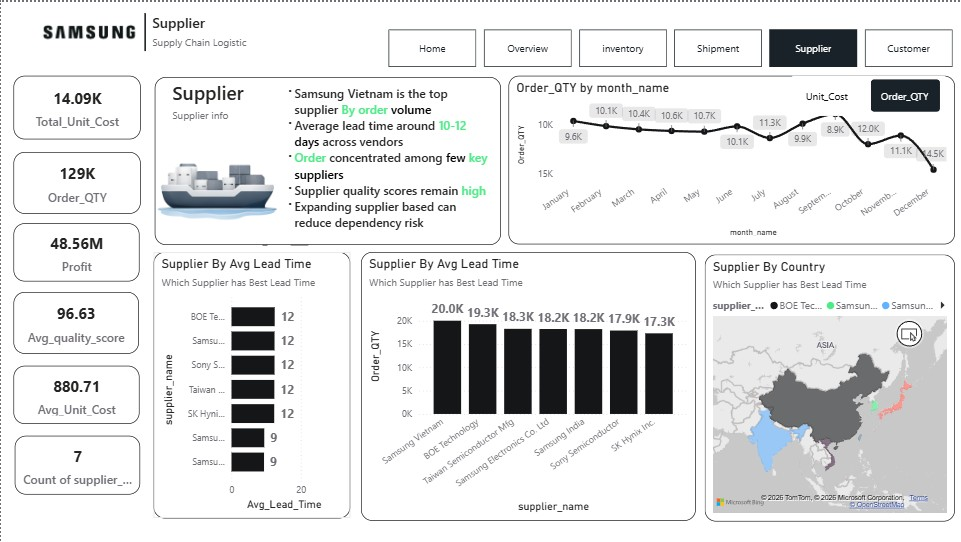

Layout of this report page (visuals, bound fields, positions):
{"tool":"powerbi","page":{"name":"Supplier","canvas":[1280,720],"ordinal":4},"visuals":[{"type":"shape","title":"Supplier","box":[201.7,15.1,152.3,71.4],"z":0},{"type":"shape","box":[16.9,15.7,351.1,50.7],"z":1000},{"type":"image","box":[0,15.7,235.3,50.7],"z":2000},{"type":"card","fields":{"Values":["MeasuresTable.Profit"]},"box":[16.7,295,168.3,77.9],"z":3000},{"type":"card","fields":{"Values":["MeasuresTable.Avg_quality_score"]},"box":[16.7,386.8,167,82.1],"z":4000},{"type":"card","fields":{"Values":["MeasuresTable.Avg_Unit_Cost"]},"box":[16.7,484.2,168.3,77.9],"z":5000},{"type":"card","fields":{"Values":["MeasuresTable.Order_QTY"]},"box":[16.7,200.3,169.7,82.1],"z":6000},{"type":"card","fields":{"Values":["MeasuresTable.Total_Unit_Cost"]},"box":[16.7,98.8,169.7,84.9],"z":7000},{"type":"card","fields":{"Values":["CountNonNull(dim_supplier.supplier_id)"]},"box":[18.3,578.4,167.5,78.3],"z":8000},{"type":"barChart","title":"Supplier By Avg Lead Time","fields":{"Y":["MeasuresTable.Avg_Lead_Time"],"Category":["dim_supplier.supplier_name"]},"box":[202.5,333.8,262.5,355],"z":9000},{"type":"columnChart","title":"Supplier By Avg Lead Time","fields":{"Category":["dim_supplier.supplier_name"],"Y":["MeasuresTable.Order_QTY"]},"box":[480,333.8,446.2,358.8],"z":10000},{"type":"filledMap","title":"Supplier By Country","fields":{"Series":["dim_supplier.supplier_name"],"Category":["dim_supplier.country"]},"box":[937.5,336.2,333.8,356.2],"z":11000},{"type":"lineChart","fields":{"Y":["MeasuresTable.Order_QTY"],"Category":["dim_date.month_name"]},"box":[676.2,98.8,595,225],"z":12000},{"type":"advancedSlicerVisual","fields":{"Values":["Cost_QTS_Suppliers.Cost_QTS_Suppliers"]},"box":[1055,98.8,203.8,53.8],"z":13000},{"type":"shape","box":[205,100,461.2,223.8],"z":14000},{"type":"image","box":[192.1,152.3,185.2,183.9],"z":15000},{"type":"shape","title":"Supplier","box":[227.5,103.8,181.2,75],"z":16000},{"type":"pageNavigator","box":[517.3,36.7,753.3,50.1],"z":17000},{"type":"textbox","box":[368.3,105,288.3,206.7],"z":18000}]}

Visuals, with their boxes in screenshot pixels (x1, y1, x2, y2), scaled from the page's 1280x720 canvas onto the 961x542 screenshot:
"Supplier" shape: <box>151,11,266,65</box>
shape: <box>13,12,276,50</box>
image: <box>0,12,177,50</box>
card - MeasuresTable.Profit: <box>13,222,139,281</box>
card - MeasuresTable.Avg_quality_score: <box>13,291,138,353</box>
card - MeasuresTable.Avg_Unit_Cost: <box>13,364,139,423</box>
card - MeasuresTable.Order_QTY: <box>13,151,140,213</box>
card - MeasuresTable.Total_Unit_Cost: <box>13,74,140,138</box>
card - CountNonNull(dim_supplier.supplier_id): <box>14,435,139,494</box>
"Supplier By Avg Lead Time" barChart: <box>152,251,349,519</box>
"Supplier By Avg Lead Time" columnChart: <box>360,251,695,521</box>
"Supplier By Country" filledMap: <box>704,253,954,521</box>
lineChart - MeasuresTable.Order_QTY x dim_date.month_name: <box>508,74,954,244</box>
advancedSlicerVisual - Cost_QTS_Suppliers.Cost_QTS_Suppliers: <box>792,74,945,115</box>
shape: <box>154,75,500,244</box>
image: <box>144,115,283,253</box>
"Supplier" shape: <box>171,78,307,135</box>
pageNavigator: <box>388,28,954,65</box>
textbox: <box>277,79,493,235</box>
